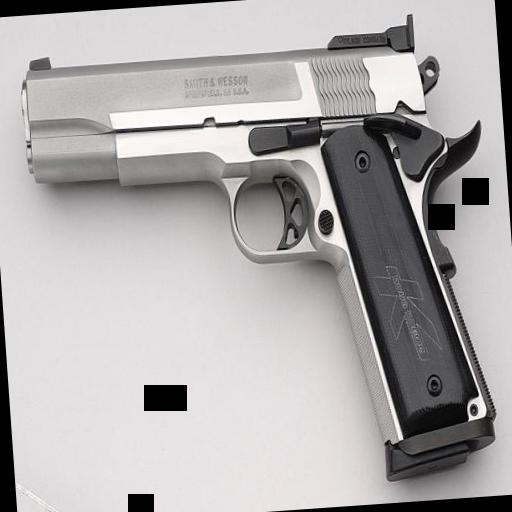Handgun: (11, 16, 506, 494)
